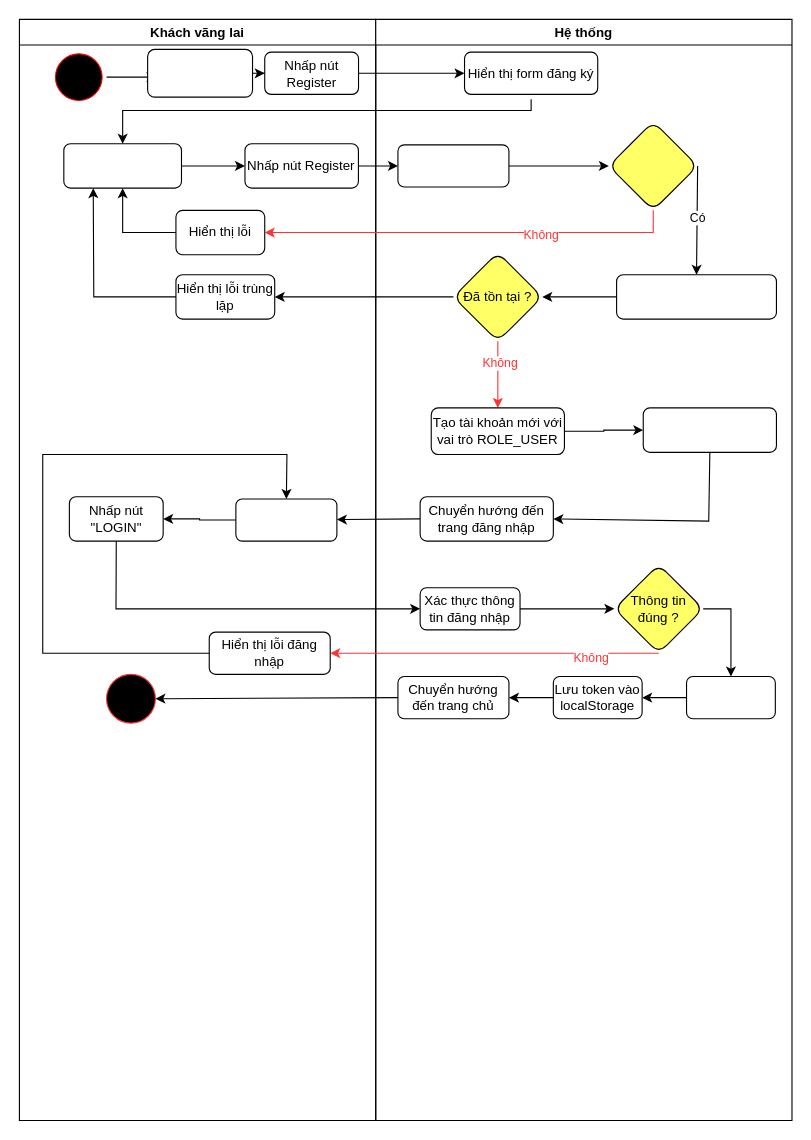
Image size: 811x1140. Some labels were removed from this diagram. The box of each missing label's shape, as (x1, y1, x2, y2) in pixels:
Dữ liệu hợp lệ?: (608, 120, 698, 210)
Hiển thị thông báo đăng ký thành công: (642, 407, 776, 452)
Kiểm tra tên người dùng và email đã tồn tại chưa: (615, 274, 776, 319)
Kiểm tra tính hợp lệ của dữ liệu: (397, 144, 509, 187)
Nhập thông tin đăng ký: (63, 143, 181, 188)
Nhập thông tin đăng nhập: (235, 498, 337, 541)
Truy cập trang web: (147, 48, 253, 97)
Tạo token JWT: (685, 675, 775, 719)
